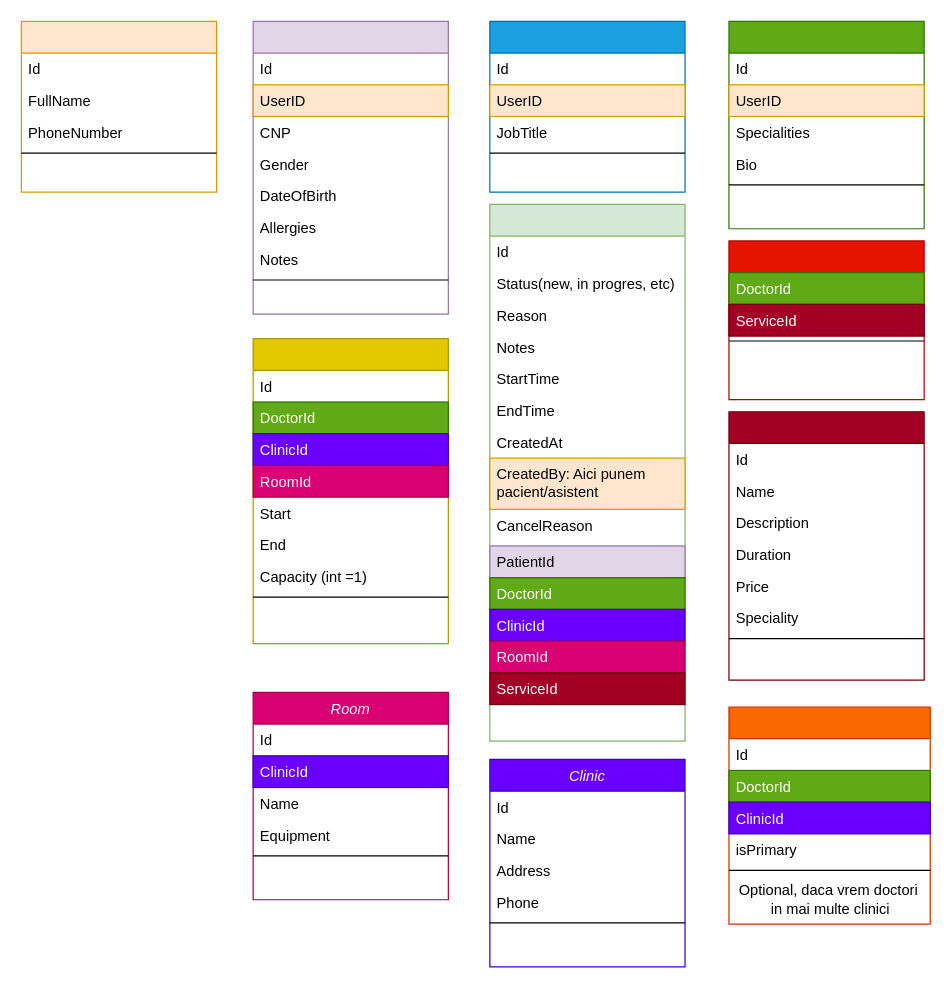
This 952x988 diagram has some shape labels left out. Each missing label, with the box of its shape:
Appointment: (489, 203, 685, 741)
AssistantProfile: (489, 20, 685, 192)
Availability: (252, 337, 448, 644)
DoctorAssignment: (728, 706, 930, 924)
DoctorProfile: (728, 20, 924, 229)
DoctorService: (728, 240, 924, 400)
PatientProfile: (252, 20, 448, 314)
Service: (728, 411, 924, 680)
User: (20, 20, 217, 192)
